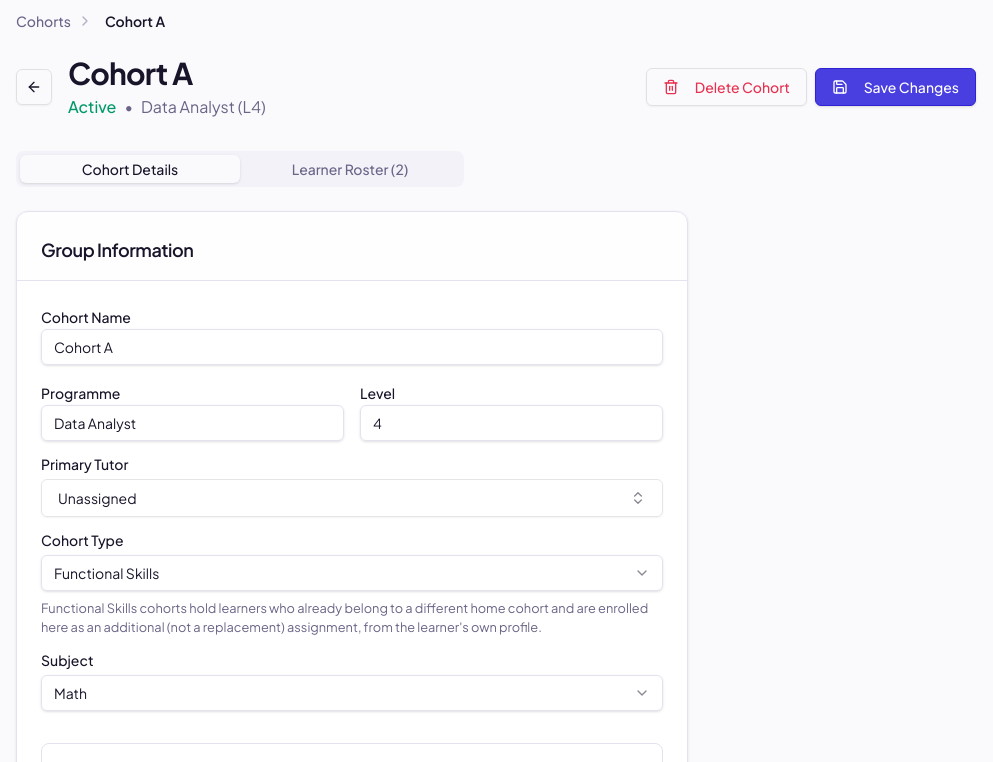
CohortDetailPage roster -- marking a Functional Skills enrollment completed › offers Mark Completed only for a learner on the roster via a Functional Skills enrollment
Click the tab "Learner Roster (2)" at (350, 169), box 240,155 -> 460,183
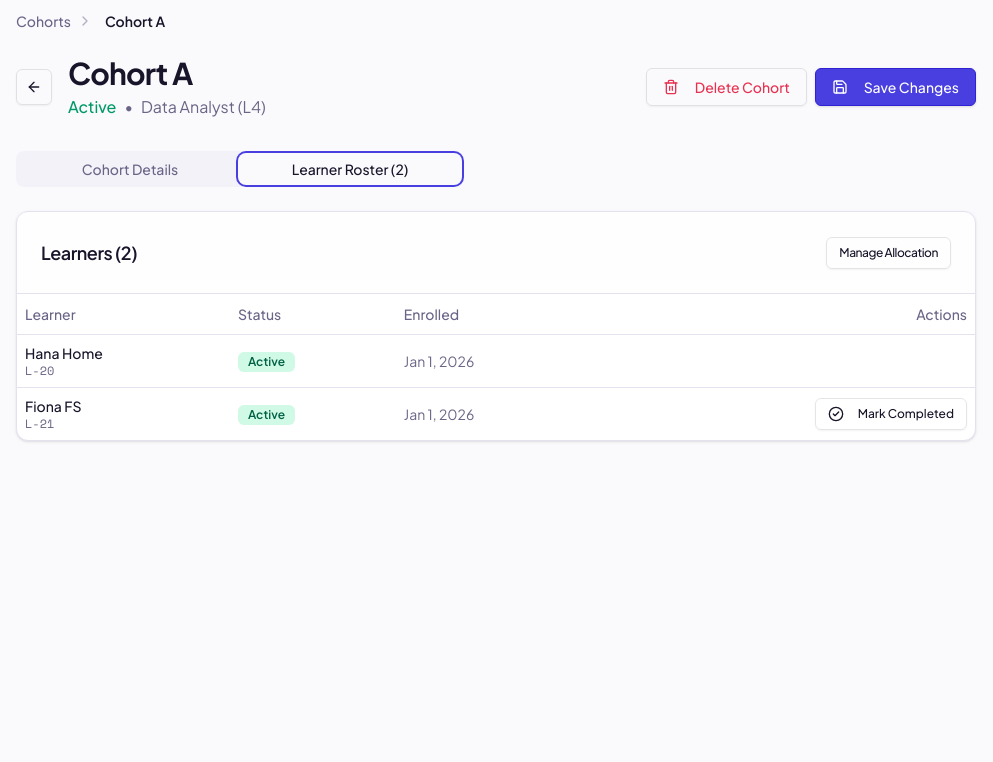
Expected: the button "Mark Completed" is shown, 815,398 -> 967,430
